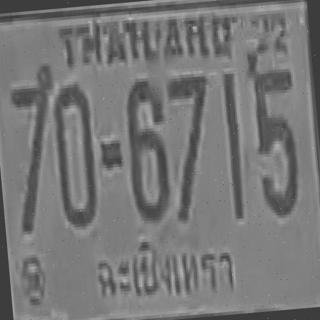N00: (50, 82, 99, 227)
N01: (220, 72, 245, 218)
N05: (247, 61, 302, 215)
N06: (122, 77, 170, 219)
N07: (8, 72, 62, 232), (164, 72, 217, 220)
P07: (85, 224, 244, 317)
